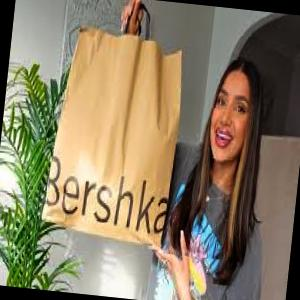bershka: (44, 152, 172, 241)
